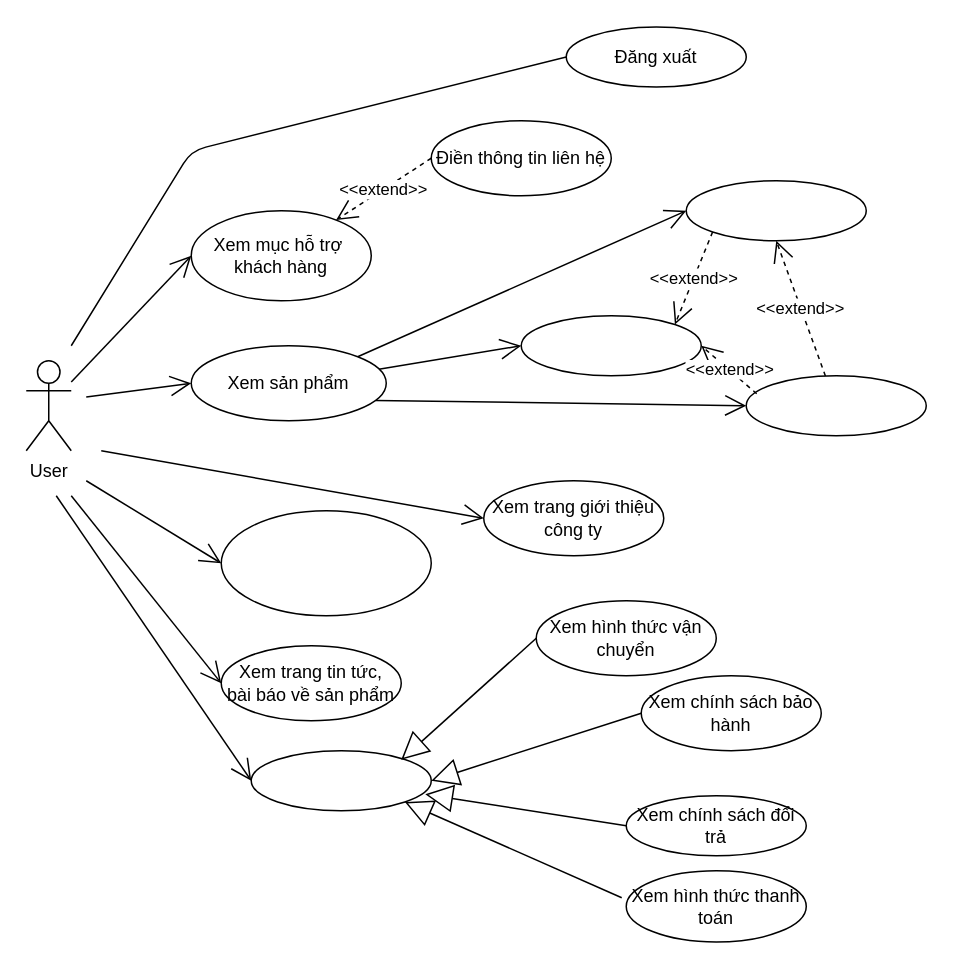
Some shapes in this 953 by 968 pixel diagram are drawn without their labels. The shapes that lost their labels are listed below. From the top down, each one's box as (x1, y1, x2, y2) in pixels, then its label:
(685, 179, 866, 241): Tìm kiếm sản phẩm
(520, 314, 701, 376): Xem trang sản phẩm
(745, 374, 926, 436): Xem chi tiết sản phẩm
(220, 509, 431, 616): Xem trang thông tin liên hệ nhà phân phối
(250, 749, 431, 811): Xem thông tin khác
